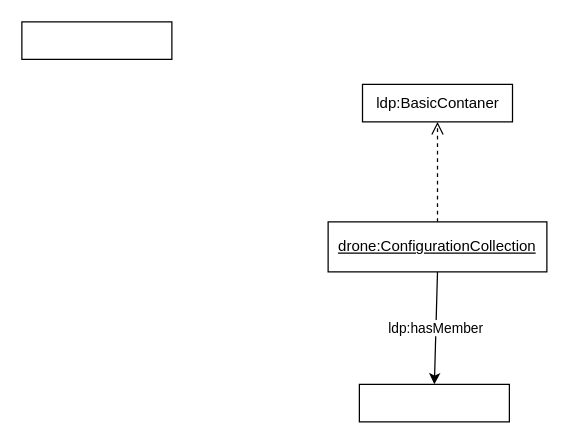
Image size: 569x444. Some labels were removed from this diagram. Each missing label, with the centre of its shape:
drone:Configuration: the point at 433,402
drone:Equipment: the point at 96,40
